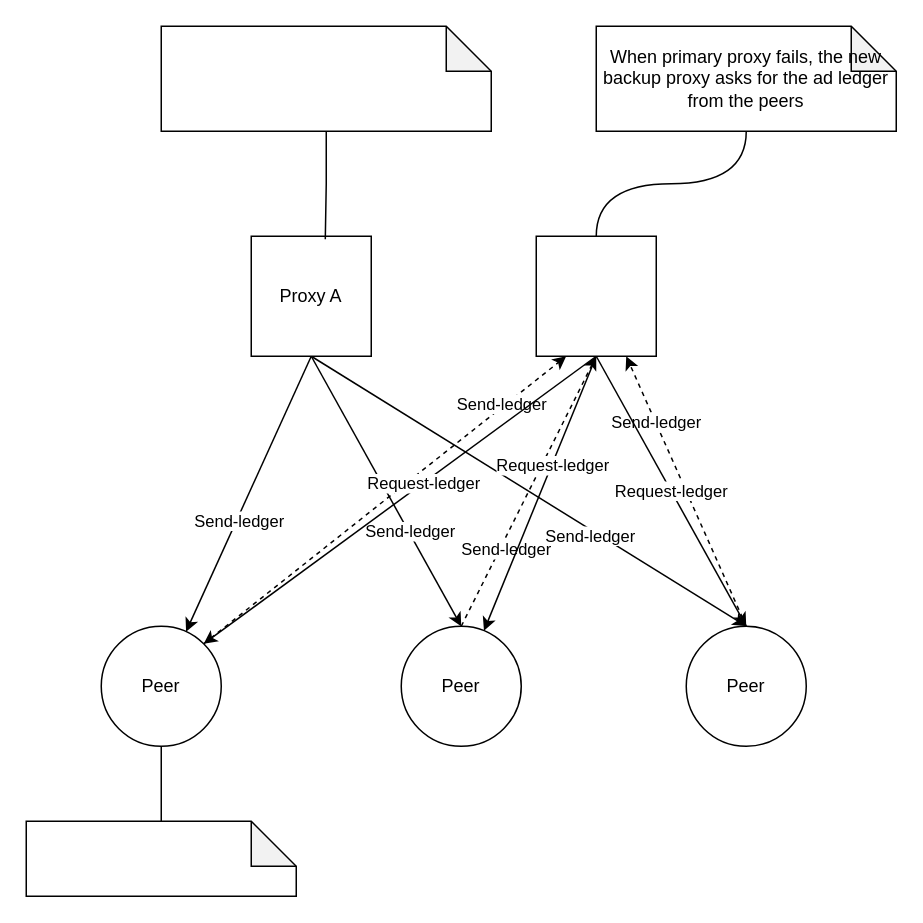
This 923x923 diagram has some shape labels left out. Each missing label, with the centre of its shape:
Peers keep copies of the ledger: point 160,858
Proxy B: point 595,295
Proxy keeps track of main ad ledger and current logical TS: point 325,78
